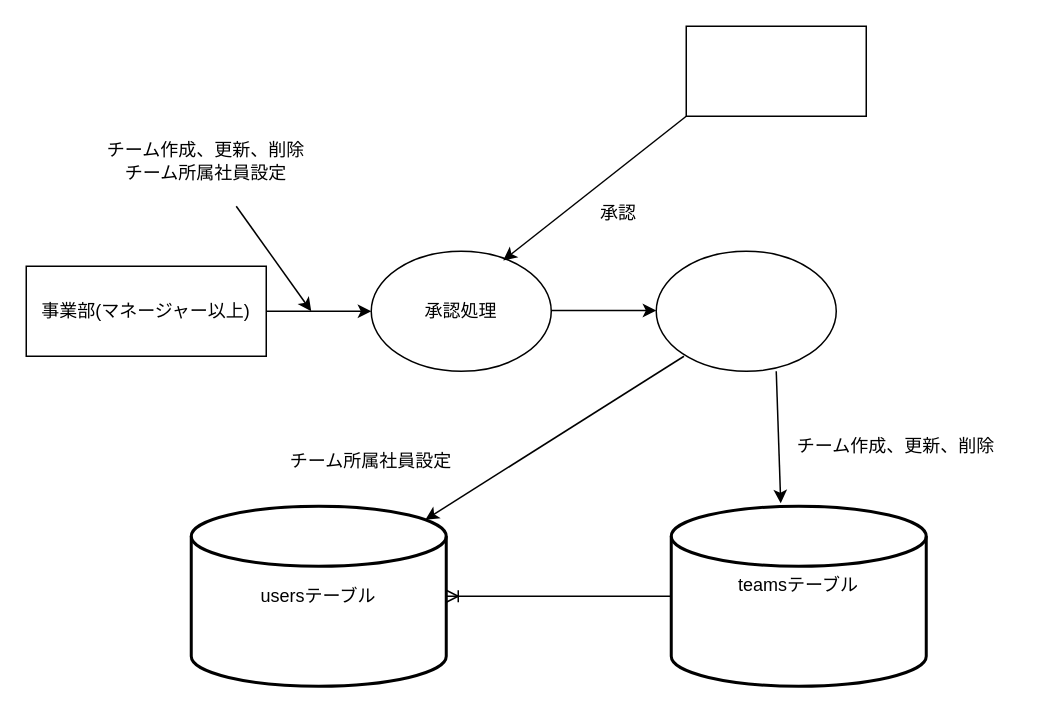
Image size: 1043x714. Some labels were removed from this diagram. Each missing label, with the box of its shape:
人事部: (685, 25, 866, 116)
登録処理: (655, 250, 836, 371)
